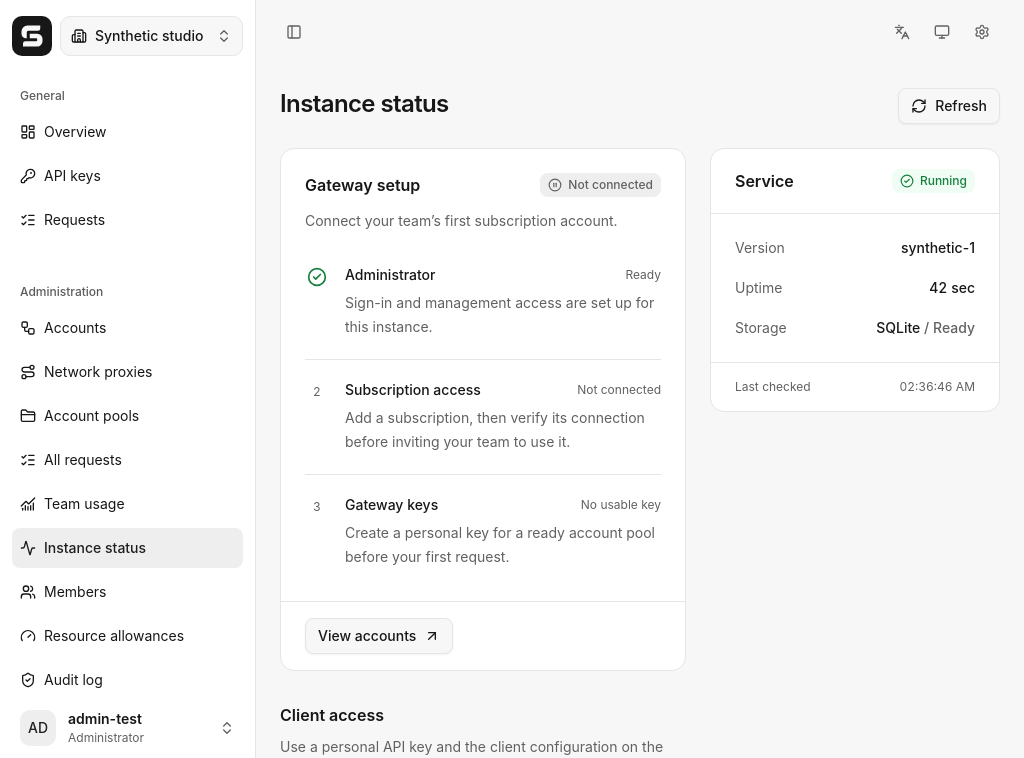
Test case: preserves the last successful status when refresh fails and recovers on retry
Expected: the text "synthetic-1" is shown, [901,238,975,258]
Click the button "Refresh" at point(949, 106), box [898,88,1000,124]
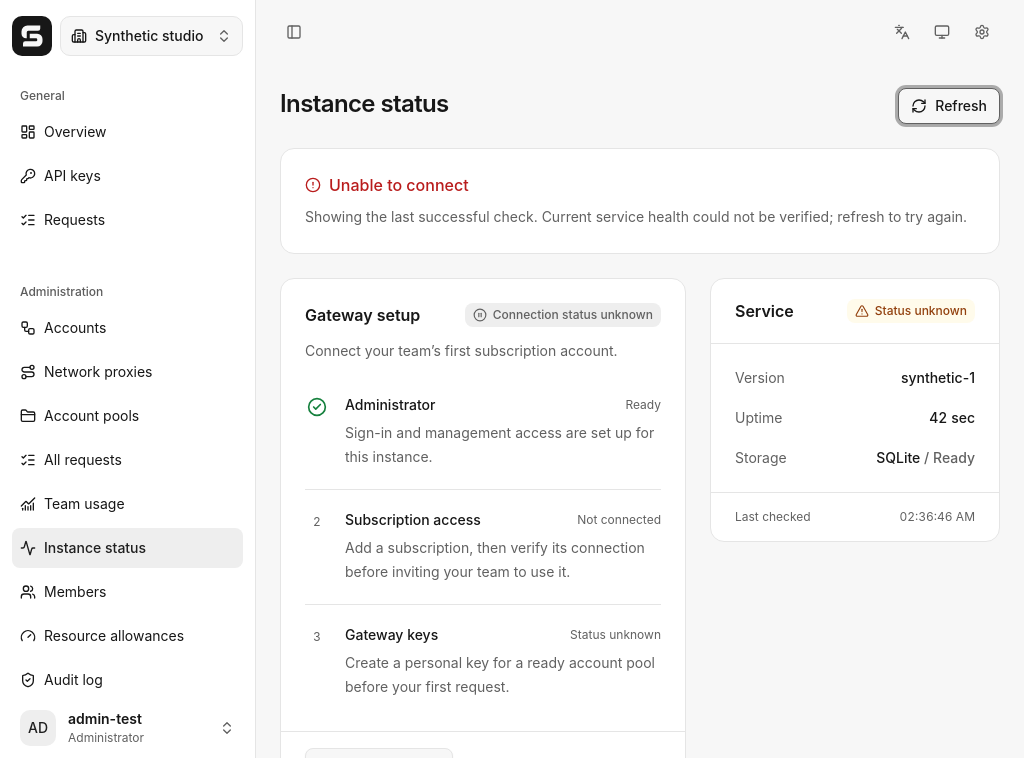
Expected: the text "synthetic-1" is shown, [901,368,975,388]
Now the message shows "Showing the last successful check", box [305,208,967,225]
Now the text "Status unknown" is shown, box [570,627,661,643]
Click the button "Refresh" at point(949, 106), box [898,88,1000,124]
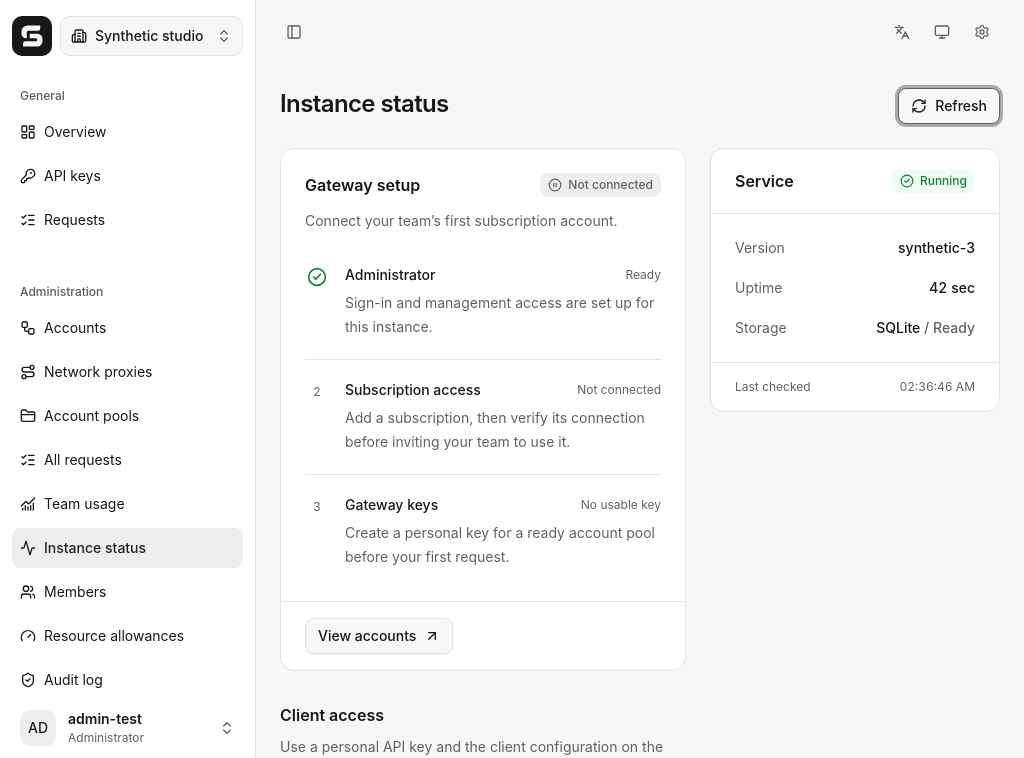
Now the text "synthetic-3" is shown, box [898,238,975,258]
Now the message is gone
Now the text "Running" is shown, box [892,169,975,193]
